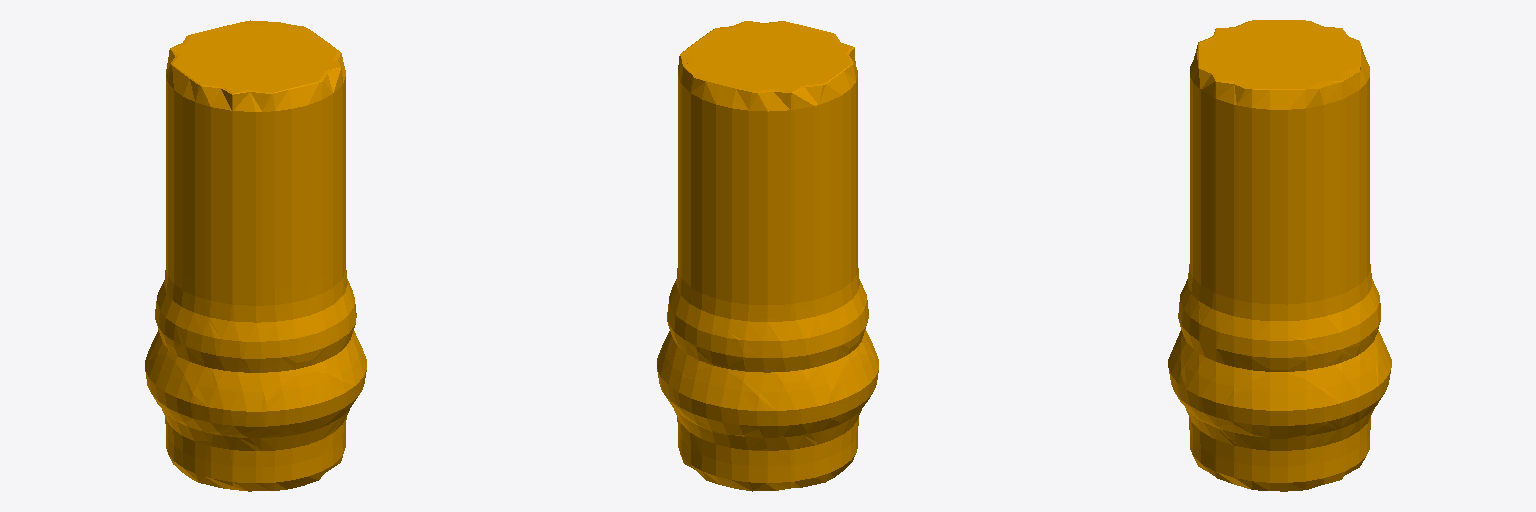
URDF robot description (cylinder_../../meshes/cylinders/cylinder_29.stl):
<?xml version="1.0" encoding="utf-8"?>  <robot name="cylinder_../../meshes/cylinders/cylinder_29.stl">   <link name="cylinder_../../meshes/cylinders/cylinder_29.stl">     <visual>       <geometry>         <mesh filename="../meshes/cylinders/cylinder_29.stl" scale="1 1 1"/>       </geometry>     </visual>     <collision>       <geometry>         <mesh filename="../meshes/cylinders/cylinder_29.stl" scale="1 1 1"/>       </geometry>     </collision>     <inertial>        <origin         xyz="0 0 0"         rpy="0 0 0" />       <mass value="0.2693992822700532"/>       <origin rpy="0 0 0" xyz="0 0 0"/>       <inertia ixx="0.00038211970243381065" ixy="-9.05833900700098e-09" ixz="-3.5999308053572064e-08" iyy="0.00038212123379851323" iyz="-3.987929286502052e-08" izz="9.474542622495046e-05"/>     </inertial>   </link>  </robot>

--- Render facts (derived) ---
Views: 3 orthographic renders of the robot side by side, from view 1: azimuth 30°, elevation 25°; view 2: azimuth 150°, elevation 25°; view 3: azimuth 270°, elevation 25°.
Robot: cylinder_../../meshes/cylinders/cylinder_29.stl — 1 links, 0 joints (none); root link cylinder_../../meshes/cylinders/cylinder_29.stl; default pose: every joint at zero.
Links seen in each view (by area): view 1: cylinder_../../meshes/cylinders/cylinder_29.stl; view 2: cylinder_../../meshes/cylinders/cylinder_29.stl; view 3: cylinder_../../meshes/cylinders/cylinder_29.stl.
Link boxes in pixels (box(x1,y1,x2,y2)): cylinder_../../meshes/cylinders/cylinder_29.stl: box(145, 20, 366, 491); cylinder_../../meshes/cylinders/cylinder_29.stl: box(657, 21, 878, 491); cylinder_../../meshes/cylinders/cylinder_29.stl: box(1168, 20, 1391, 491).
Bounding box of the posed robot: 0.0624 × 0.0624 × 0.1245 m (x, y, z).
1 mesh visuals loaded from 1 distinct referenced files (1 binary STL).